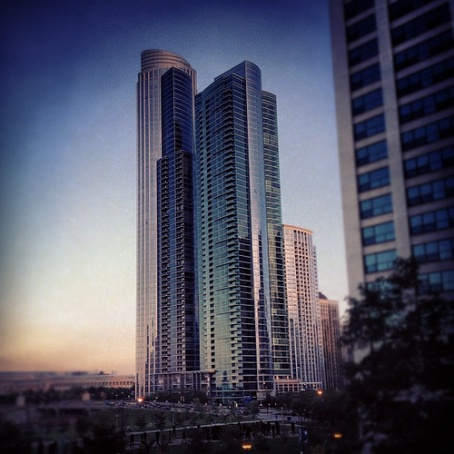building: (335, 1, 454, 444), (190, 60, 286, 396), (136, 46, 195, 392), (281, 221, 321, 397), (317, 295, 345, 392)
sky: (1, 1, 131, 363)
tree: (333, 263, 454, 454)
